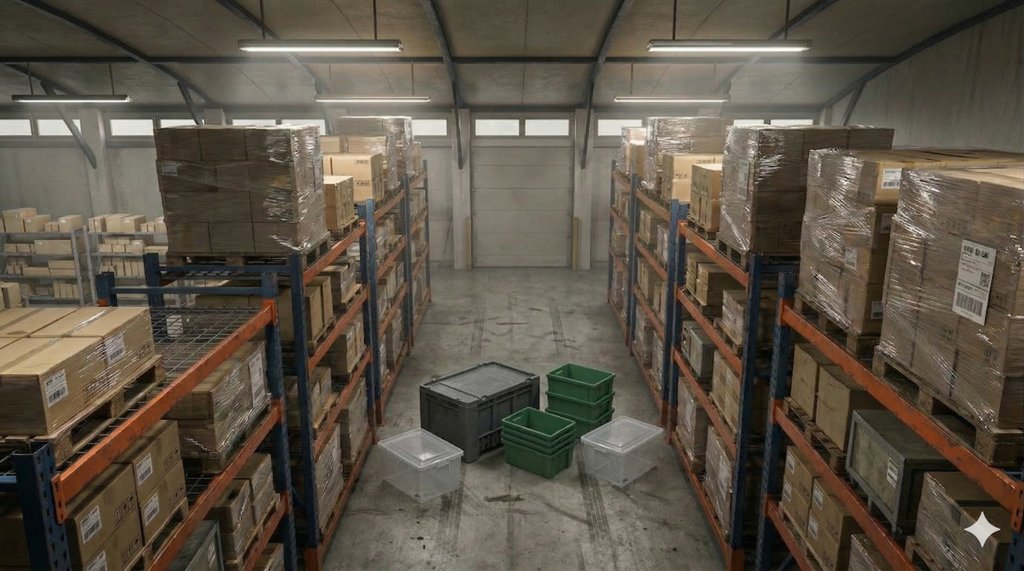obstacle: (350, 335, 691, 524)
pallet: (864, 345, 1020, 478), (36, 352, 182, 450), (783, 285, 877, 366), (778, 394, 864, 473), (168, 246, 308, 281), (711, 236, 747, 274)
